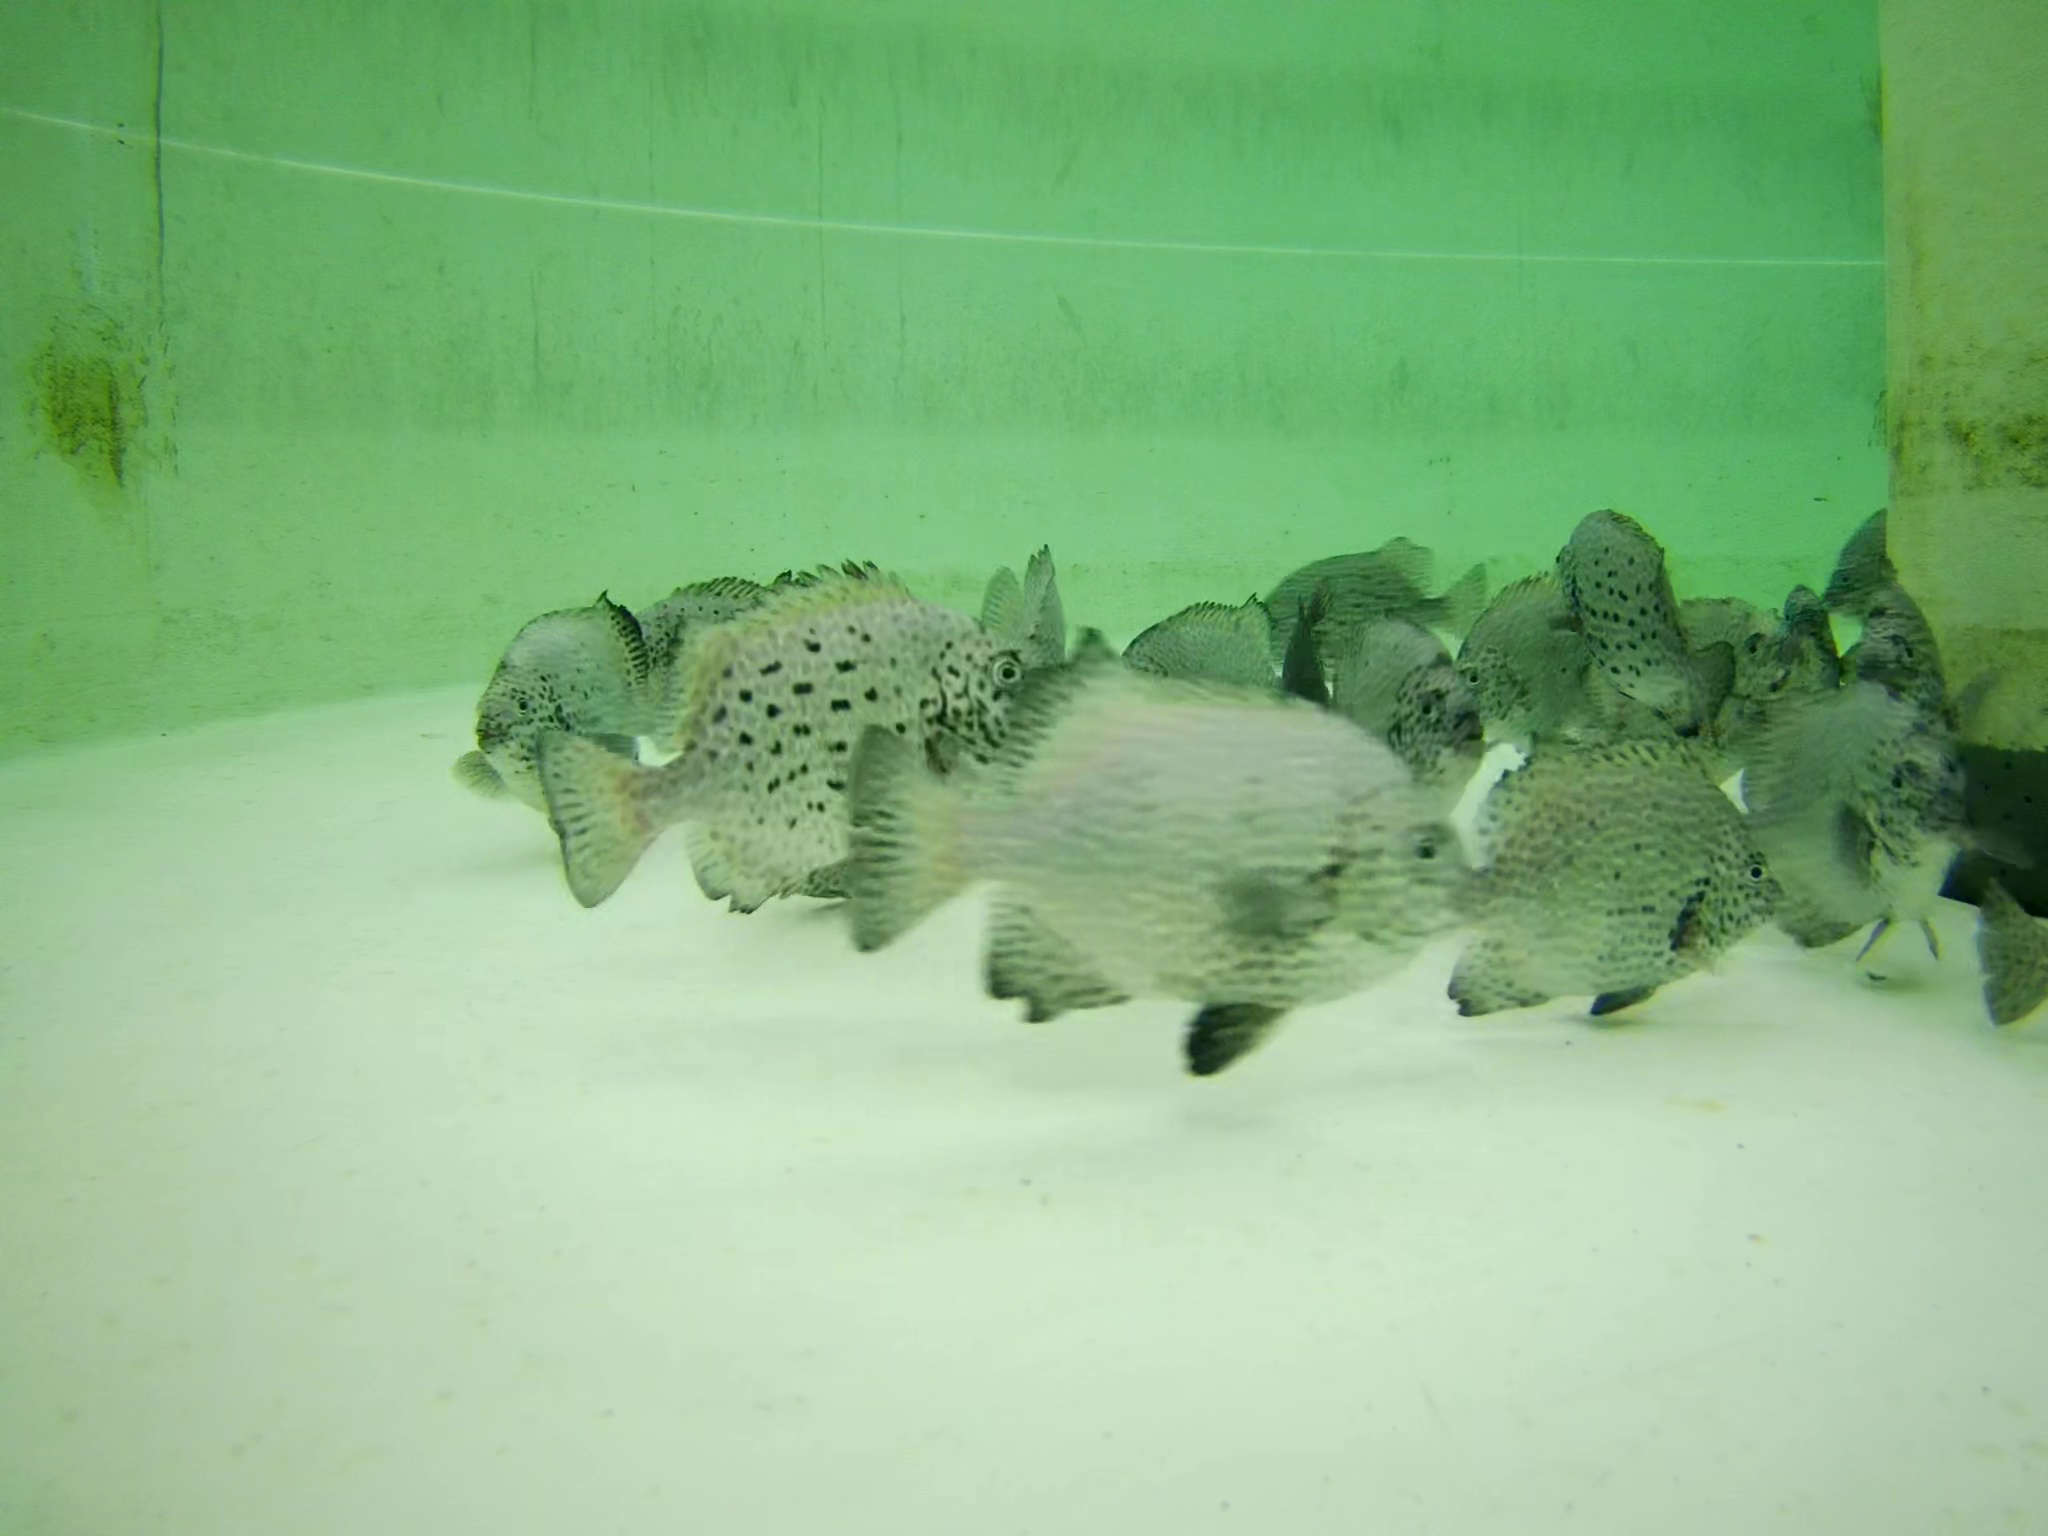fish: (845, 662, 1464, 1049), (553, 568, 1066, 934), (1426, 736, 1763, 1026), (1748, 691, 1966, 981), (1442, 571, 1695, 763), (461, 595, 650, 821), (1243, 529, 1488, 700), (1100, 608, 1340, 771), (1556, 511, 1724, 737), (605, 574, 803, 763), (1821, 510, 1951, 755), (1669, 592, 1793, 752), (1380, 655, 1495, 808), (1971, 860, 2048, 1039), (1780, 579, 1842, 745)
